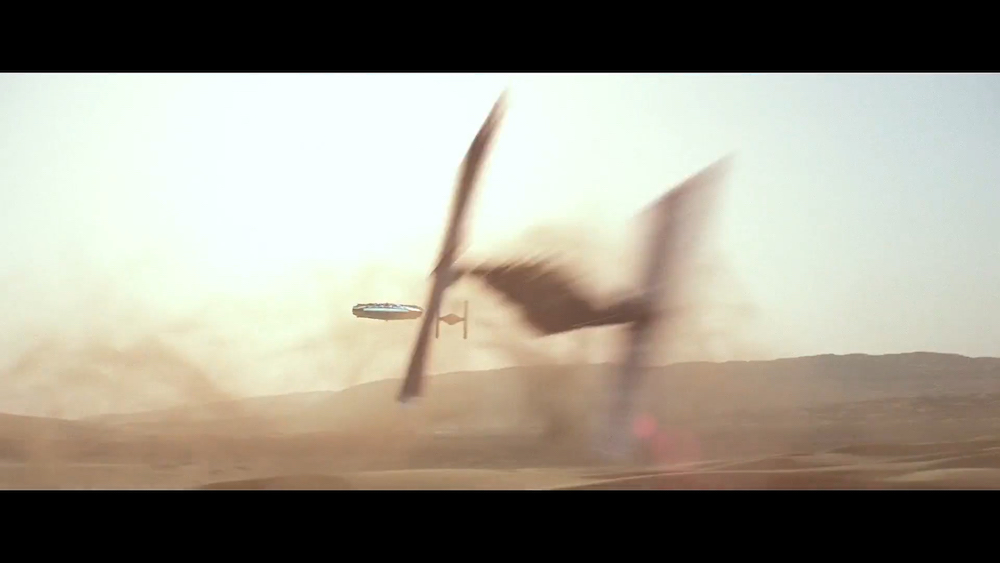Millennium Falcon: (352, 303, 426, 322)
Tie Fighter: (396, 90, 737, 472), (435, 300, 470, 340)
